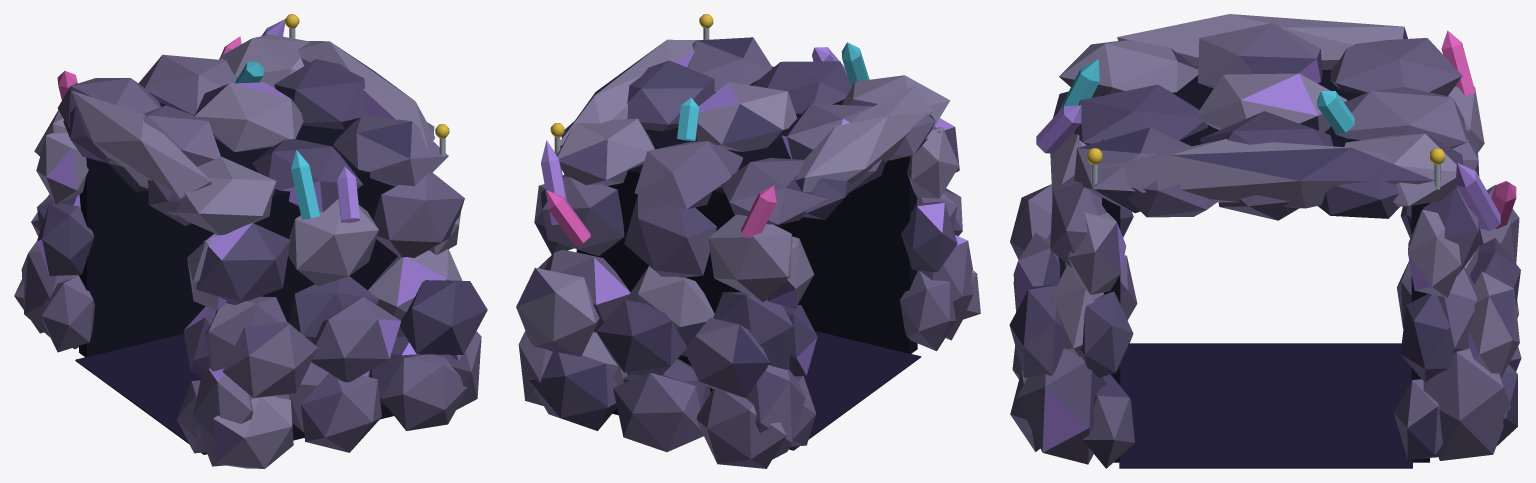
The model's file is space-cave.glb.
3 renders of one model, left to right at view 1: azimuth 30°, elevation 25°; view 2: azimuth 150°, elevation 25°; view 3: azimuth 270°, elevation 25°, orthographic. The views are drawn at different scales.
Parts seen in each view (by area): view 1: space-cave; view 2: space-cave; view 3: space-cave.
Part boxes in pixels (box(x1,y1,x2,y2)): space-cave: box(14, 14, 487, 468); space-cave: box(516, 14, 980, 468); space-cave: box(1009, 14, 1521, 468).
Bounding box in the file's own units: 3.02 × 3.05 × 4.18.
